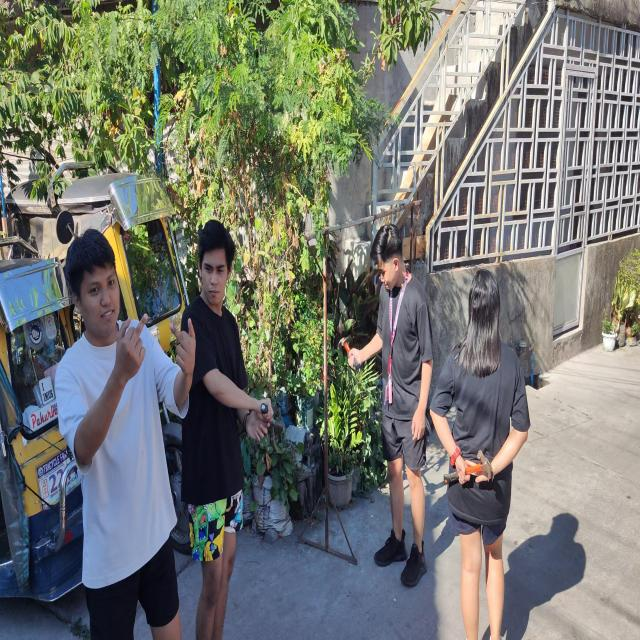hammer: (443, 449, 492, 485), (337, 335, 360, 371), (260, 402, 284, 432)
